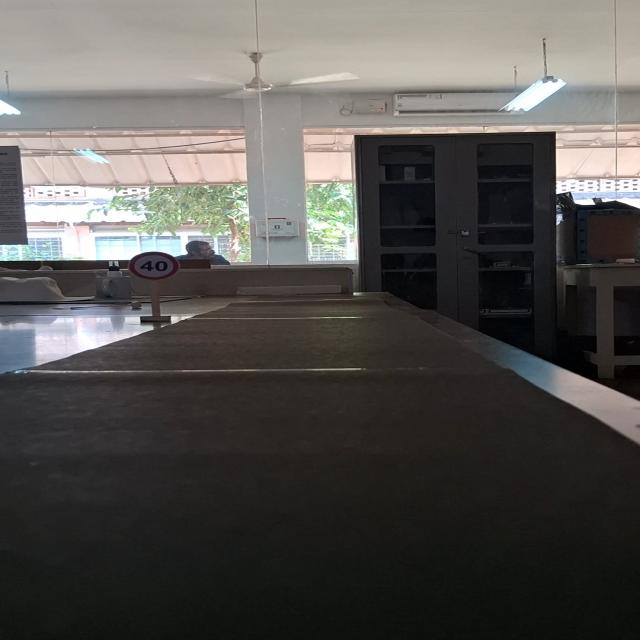Speed40: (126, 250, 181, 282)
